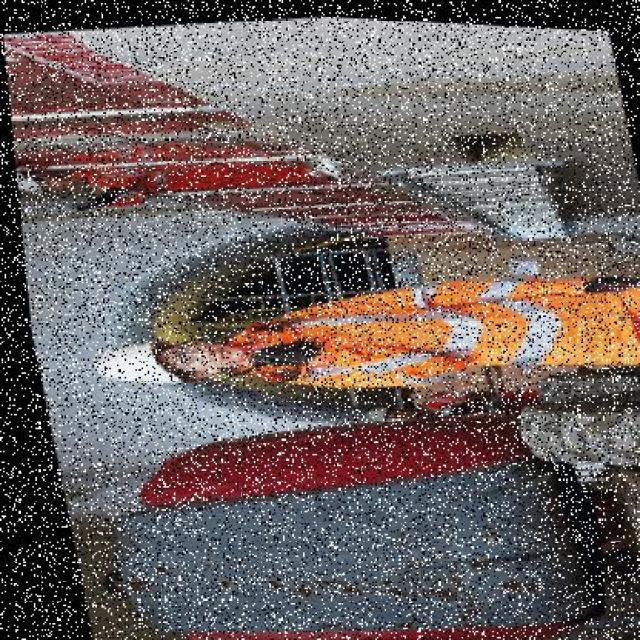helmet: (77, 323, 183, 393)
vest: (230, 246, 639, 414)
